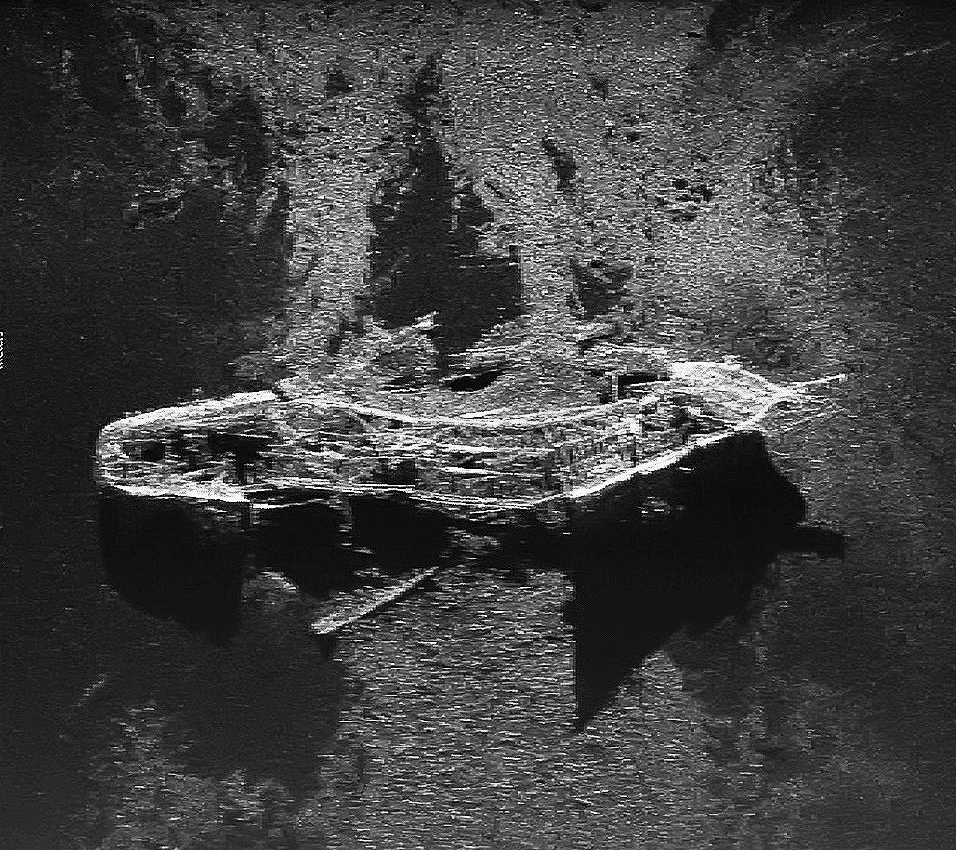ship: (350, 56, 579, 750)
